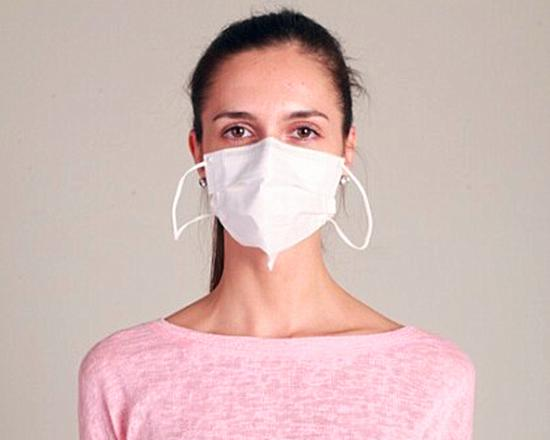OK: (206, 105, 346, 245)
